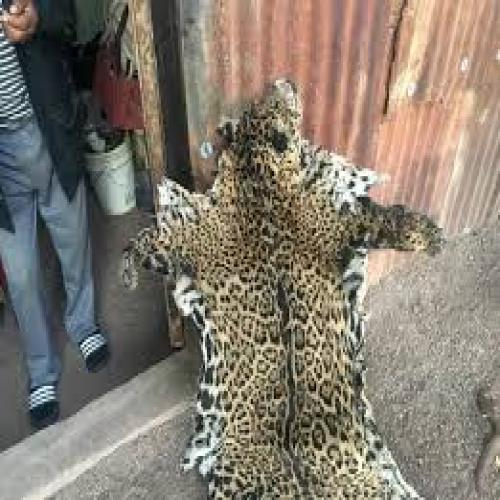jaguar_not-endangered: (134, 80, 437, 500)
